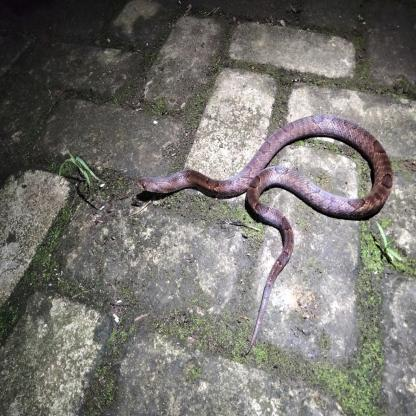Snake: (134, 107, 396, 306)
